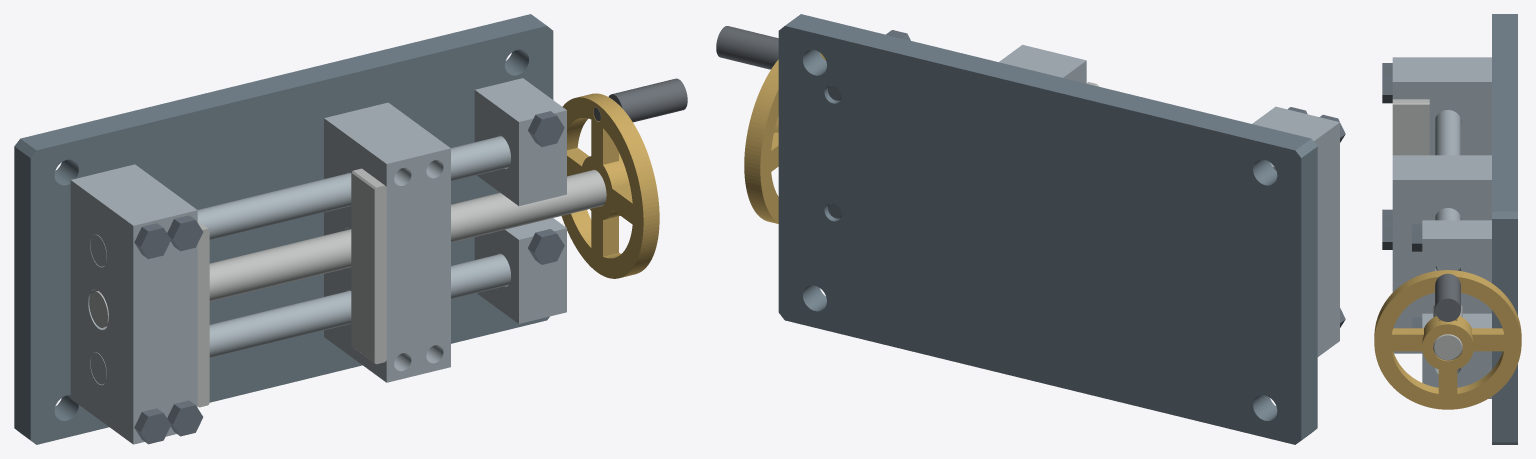
The picture shows the model from 3 angles, left to right: view 1: azimuth 30°, elevation 25°; view 2: azimuth 150°, elevation 25°; view 3: azimuth 270°, elevation 25°; orthographic projection. The views are drawn at different scales.
Parts seen in each view (by area): view 1: base, fixed-tower, moving-carriage, wheel, spindle, support-right, rod-right, rod-left, insert-moving, support-left, insert-fixed, grip (+6 smaller); view 2: base, fixed-tower, wheel, grip, moving-carriage; view 3: wheel, base, moving-carriage, fixed-tower, support-right, insert-fixed, support-left, rod-right, grip, spindle, mount-bolt-4, mount-bolt-3 (+1 smaller).
Boxes of the visible parts, box(x1,y1,x2,y2) form: base: box(14, 14, 553, 444); fixed-tower: box(70, 164, 197, 444); moving-carriage: box(324, 102, 450, 382); wheel: box(561, 93, 659, 278); spindle: box(89, 170, 606, 327); support-right: box(474, 78, 566, 205); rod-right: box(90, 136, 510, 266); rod-left: box(90, 254, 510, 384); insert-moving: box(351, 168, 386, 364); support-left: box(474, 218, 566, 323); insert-fixed: box(197, 221, 209, 407); grip: box(593, 78, 687, 122); base: box(778, 14, 1317, 444); fixed-tower: box(1252, 106, 1339, 356); wheel: box(744, 53, 825, 223); grip: box(716, 26, 778, 69); moving-carriage: box(999, 44, 1086, 83); wheel: box(1374, 270, 1521, 409); base: box(1492, 14, 1517, 444); moving-carriage: box(1392, 155, 1491, 353); fixed-tower: box(1392, 57, 1491, 155); support-right: box(1422, 220, 1491, 305); insert-fixed: box(1392, 99, 1429, 155); support-left: box(1422, 313, 1491, 398); rod-right: box(1435, 110, 1460, 270); grip: box(1435, 273, 1460, 321); spindle: box(1433, 305, 1462, 360); mount-bolt-4: box(1382, 75, 1392, 103); mount-bolt-3: box(1382, 222, 1392, 249).
Bounding box in the file's own units: 309 × 140 × 80.
